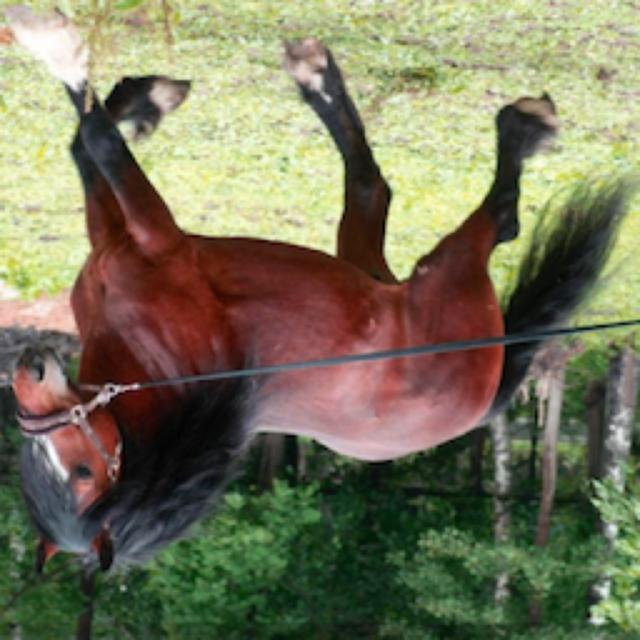Horse: (0, 5, 638, 583)
